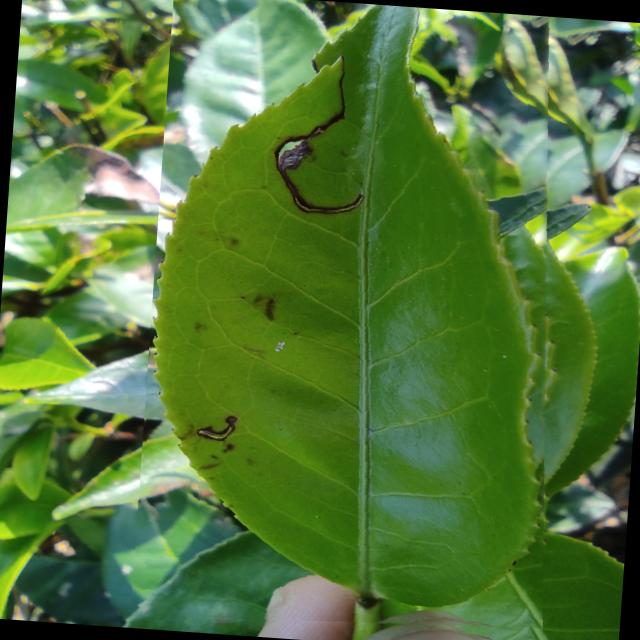Category C 4-7 days: (130, 0, 585, 640)
